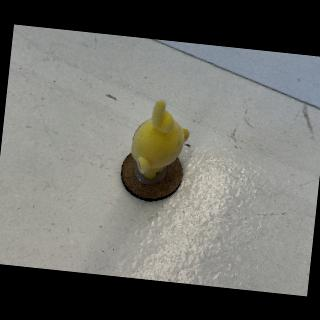teletubby: (131, 100, 189, 178)
